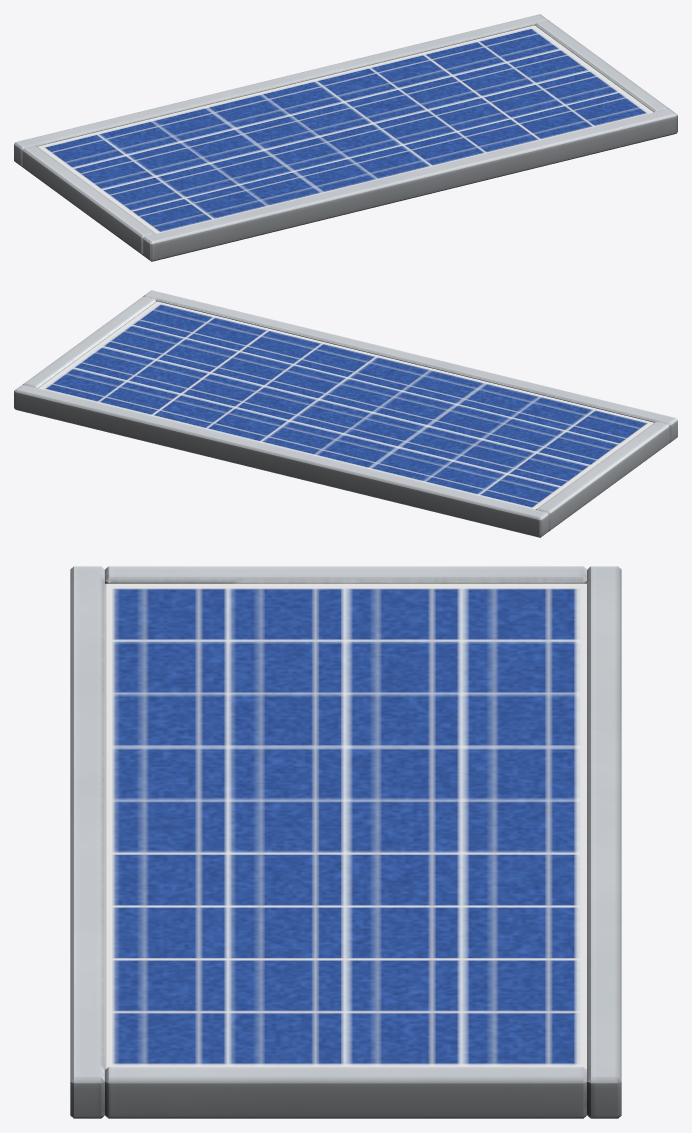
The model's file is RenewableEnergy_SolarModule.fbx.
The picture shows the model from 3 angles, top to bottom: view 1: azimuth 30°, elevation 25°; view 2: azimuth 150°, elevation 25°; view 3: azimuth 270°, elevation 25°; orthographic projection. The views are drawn at different scales.
Visible parts, largest first — view 1: SolarModule; view 2: SolarModule; view 3: SolarModule.
Boxes of the visible parts, x1,y1,x2,y2 form: SolarModule: [14, 14, 677, 261]; SolarModule: [14, 290, 677, 537]; SolarModule: [70, 566, 621, 1118].
Bounding box in the file's own units: 0.986 × 0.036 × 0.446.
